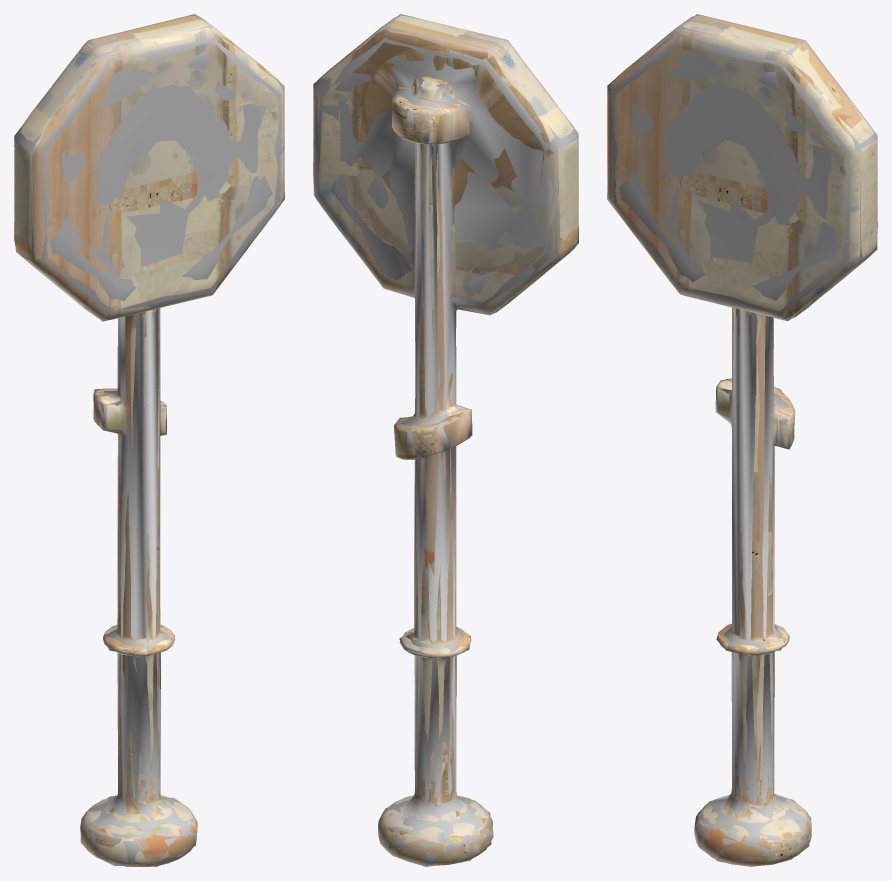
File: dur.fbx
3 renders of one model, left to right at view 1: azimuth 30°, elevation 25°; view 2: azimuth 150°, elevation 25°; view 3: azimuth 330°, elevation 25°, orthographic.
Parts seen in each view (by area): view 1: Mesh_0, Mesh_0.001; view 2: Mesh_0, Mesh_0.001; view 3: Mesh_0, Mesh_0.001.
Part boxes in pixels (left/top/right/bottom): Mesh_0: left=14, top=15, right=284, bottom=866; Mesh_0.001: left=14, top=14, right=284, bottom=866; Mesh_0: left=313, top=15, right=578, bottom=865; Mesh_0.001: left=313, top=14, right=578, bottom=866; Mesh_0: left=607, top=15, right=877, bottom=866; Mesh_0.001: left=607, top=14, right=877, bottom=866.
Size of the model in its own units: 62.24 by 191 by 24.99.
